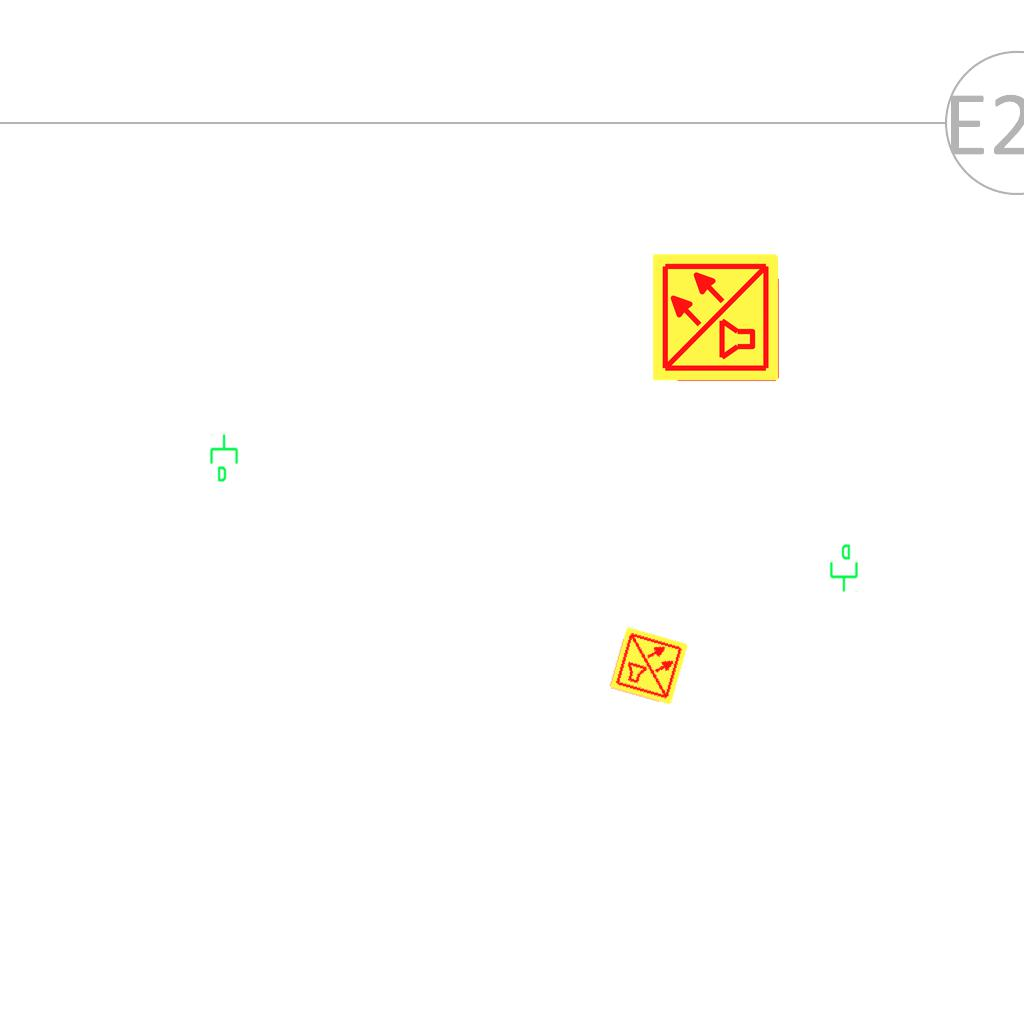Datenanschluss_einfach: (826, 543, 860, 593), (208, 433, 242, 483)
OKW_Multisensormelder_(Kombination_optischer_Rauch-Kahlenmonoxid_Waerme-Melder): (650, 251, 782, 383), (608, 625, 690, 707)
